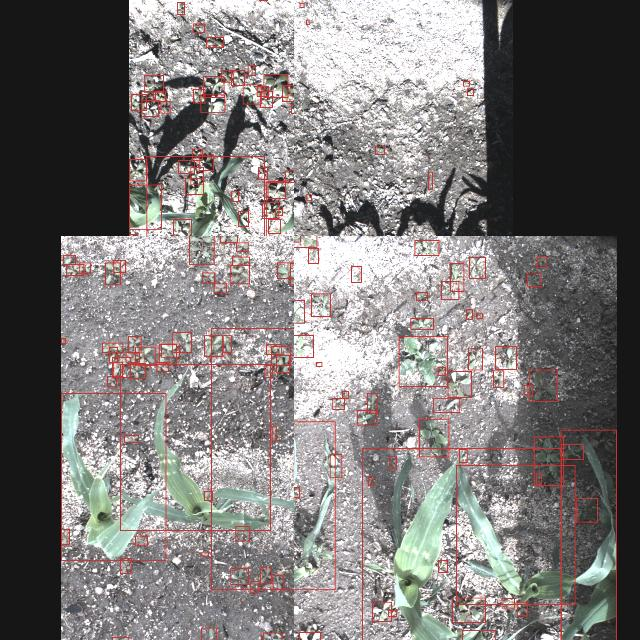crop: (361, 448, 561, 640), (120, 364, 270, 530), (210, 327, 294, 589), (61, 392, 166, 560), (456, 464, 574, 604), (560, 429, 616, 640), (146, 155, 264, 236), (294, 421, 334, 589), (128, 184, 160, 228)
weed: (398, 336, 448, 386), (533, 436, 563, 484), (418, 418, 448, 456), (529, 369, 557, 401), (452, 596, 484, 622), (188, 236, 213, 263), (447, 371, 471, 397), (263, 74, 287, 96), (576, 497, 598, 521), (494, 346, 516, 368), (310, 294, 330, 316), (294, 335, 313, 357), (200, 95, 224, 112), (203, 76, 223, 96), (134, 346, 154, 366), (128, 158, 146, 180), (204, 334, 222, 356), (449, 263, 463, 291), (372, 601, 391, 621), (433, 397, 459, 411), (461, 629, 494, 640), (172, 332, 190, 352), (158, 343, 176, 363), (111, 357, 129, 377), (230, 264, 248, 284), (104, 262, 120, 284), (469, 256, 485, 278), (242, 85, 260, 104), (143, 75, 163, 92), (414, 240, 438, 254), (267, 180, 285, 198), (272, 346, 290, 364), (440, 281, 458, 299), (468, 347, 482, 369), (561, 444, 583, 458), (172, 219, 190, 236), (184, 178, 203, 194), (140, 100, 158, 116), (230, 567, 248, 583), (356, 410, 376, 424), (277, 262, 294, 278), (329, 454, 341, 476), (262, 202, 278, 218), (130, 94, 146, 110), (410, 317, 432, 328), (294, 236, 316, 247), (198, 154, 212, 170), (130, 362, 144, 378), (276, 354, 288, 372), (160, 344, 178, 356), (200, 627, 216, 640), (294, 299, 303, 322), (102, 342, 122, 352), (366, 393, 376, 413), (298, 631, 320, 640), (235, 526, 249, 540), (281, 85, 294, 100), (190, 167, 202, 183), (178, 160, 194, 172), (260, 90, 272, 106), (128, 336, 140, 352), (230, 70, 243, 84), (205, 37, 222, 47), (493, 369, 503, 386), (192, 88, 204, 102), (268, 219, 280, 233), (272, 575, 284, 589), (527, 274, 541, 286), (238, 210, 248, 226), (260, 567, 270, 583), (232, 256, 248, 266), (66, 264, 82, 274), (350, 266, 360, 282), (262, 632, 281, 640), (220, 69, 232, 81), (112, 360, 121, 376), (222, 334, 230, 352), (113, 260, 125, 272), (120, 558, 130, 572), (266, 344, 280, 354), (125, 351, 139, 361), (517, 601, 527, 615), (307, 248, 317, 262), (60, 528, 68, 544), (109, 346, 117, 362), (140, 90, 152, 100), (191, 148, 201, 160), (256, 86, 268, 96), (192, 22, 204, 32), (202, 272, 214, 282), (63, 254, 75, 264), (78, 262, 90, 272), (332, 398, 344, 408), (502, 597, 514, 607), (123, 434, 137, 442), (458, 448, 466, 462), (156, 362, 168, 371), (438, 560, 447, 572), (284, 170, 294, 180), (154, 90, 164, 100), (536, 256, 546, 266), (258, 167, 266, 179), (160, 100, 168, 112), (176, 2, 184, 14), (236, 242, 248, 250), (250, 580, 258, 592), (135, 536, 147, 544), (264, 365, 272, 377), (214, 284, 226, 292), (415, 292, 427, 300), (388, 456, 396, 468), (106, 376, 115, 386), (219, 236, 236, 241), (290, 263, 294, 284), (230, 191, 238, 201), (247, 65, 255, 75), (374, 145, 384, 153), (204, 490, 212, 500), (524, 384, 532, 394), (428, 172, 432, 188), (112, 636, 128, 640), (437, 367, 445, 375), (536, 473, 542, 483), (466, 308, 472, 318), (271, 426, 275, 440), (388, 610, 397, 616), (294, 487, 299, 497), (274, 209, 282, 215), (462, 80, 470, 86), (341, 390, 347, 398), (368, 475, 372, 485), (467, 88, 473, 94), (476, 312, 482, 318), (200, 552, 208, 556), (291, 103, 294, 112), (306, 194, 310, 200), (299, 2, 303, 6), (60, 338, 64, 342), (316, 361, 320, 365), (306, 18, 308, 24)
